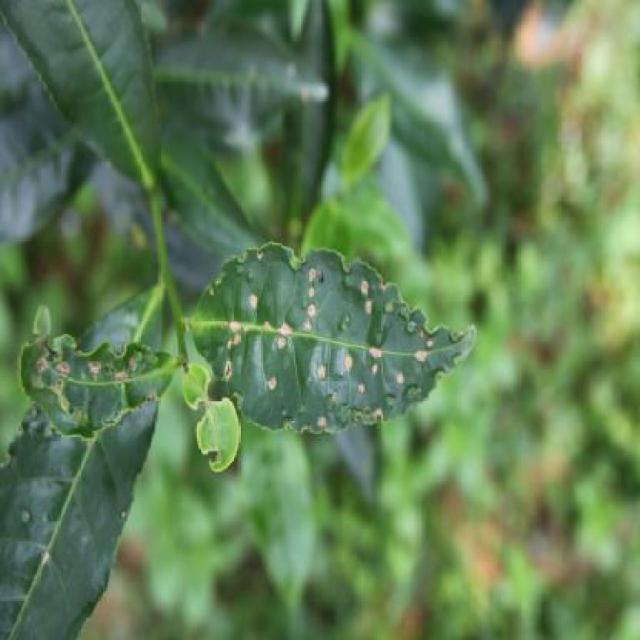Tea Mosquito bug infested leaf: (182, 234, 476, 437), (12, 303, 174, 439)
